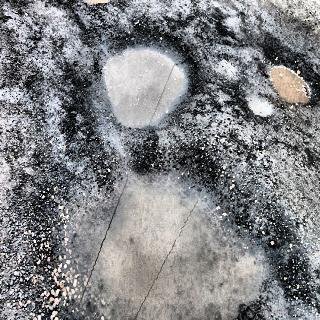pothole: (40, 143, 269, 320), (101, 27, 192, 136), (244, 44, 316, 120)
